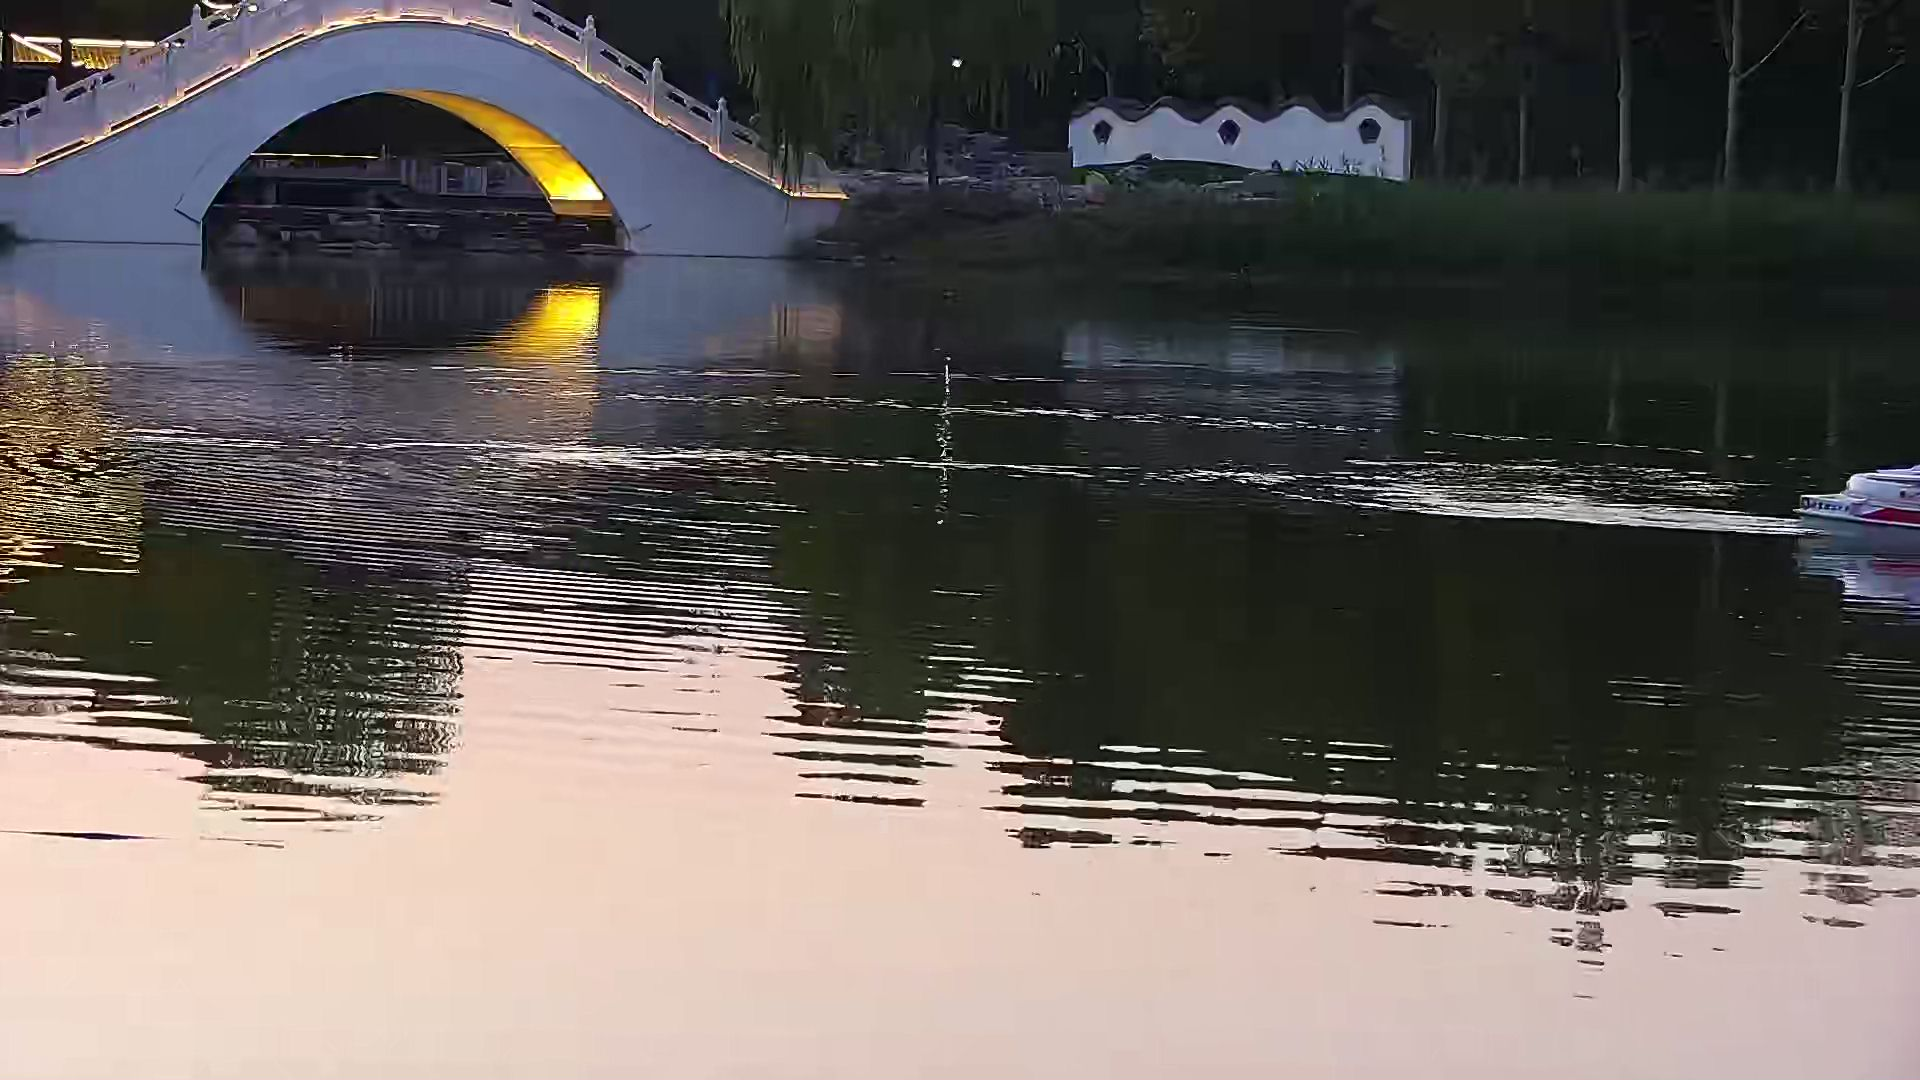boat: (1791, 444, 1920, 555)
bridge: (1, 3, 804, 255)
